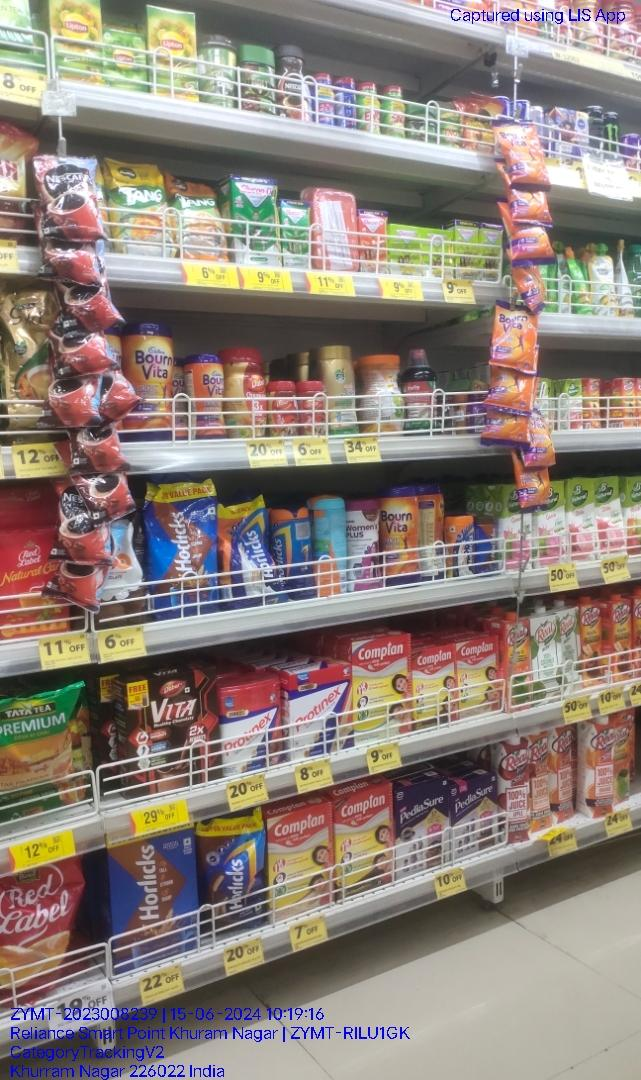BOURN_VITA_1_KG_JAR: (124, 320, 177, 442)
BOURN_VITA_500_G_JAR: (380, 487, 419, 585), (190, 353, 227, 438)
COMPLAN_CHOCOLATE_200_GMS_PACK: (337, 792, 394, 903), (412, 645, 459, 730)
COMPLAN_CREAMY_CLASSIC_500_G_PACK: (351, 636, 411, 739)
COMPLAN_KESAR_BADAM_200_GMS_PACK: (266, 806, 335, 916), (461, 638, 500, 722)
HORLICK_CHOCOLATE_500_G_PACK: (109, 838, 200, 968)
HORLICK_CHOCOLATE_750_G_POUCH: (146, 477, 219, 620)
HORLICK_CLASSIC_MALT_750_G_POUCH: (222, 499, 281, 606)
PROTINEX_CHOCOLATE_400_G_JAR: (221, 680, 282, 780)
